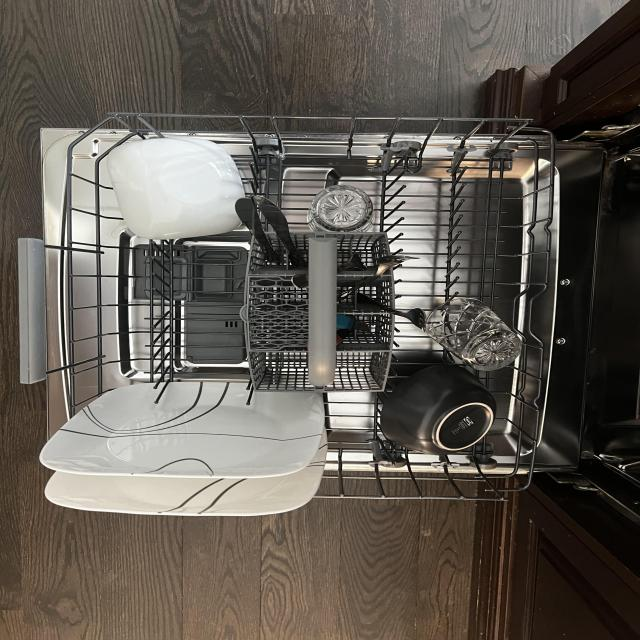Bowl: (106, 134, 250, 241), (379, 364, 500, 452)
Fork: (336, 254, 422, 306), (352, 291, 428, 332), (336, 250, 367, 272)
Glass: (422, 292, 523, 371), (306, 180, 378, 234)
Knife: (252, 193, 304, 268), (234, 194, 279, 267), (336, 313, 374, 334)
Plate: (35, 374, 326, 478)
